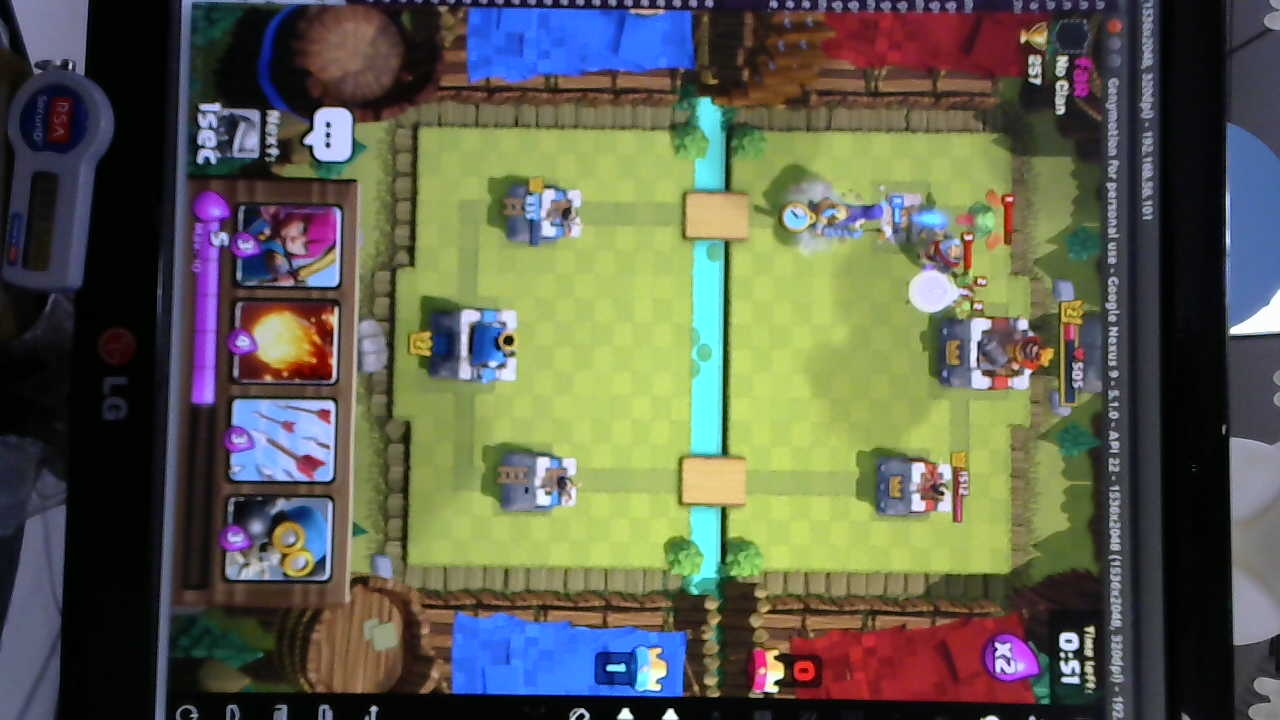arena: (503, 447, 584, 516), (501, 180, 584, 246)
dragon: (958, 188, 1005, 251)
earena: (878, 457, 953, 519)
eking: (937, 310, 1045, 397)
king: (427, 302, 521, 389)
knight: (923, 226, 966, 275)
prince: (804, 195, 860, 241)
speargoblins: (941, 272, 989, 334)
witch: (839, 197, 895, 238)
